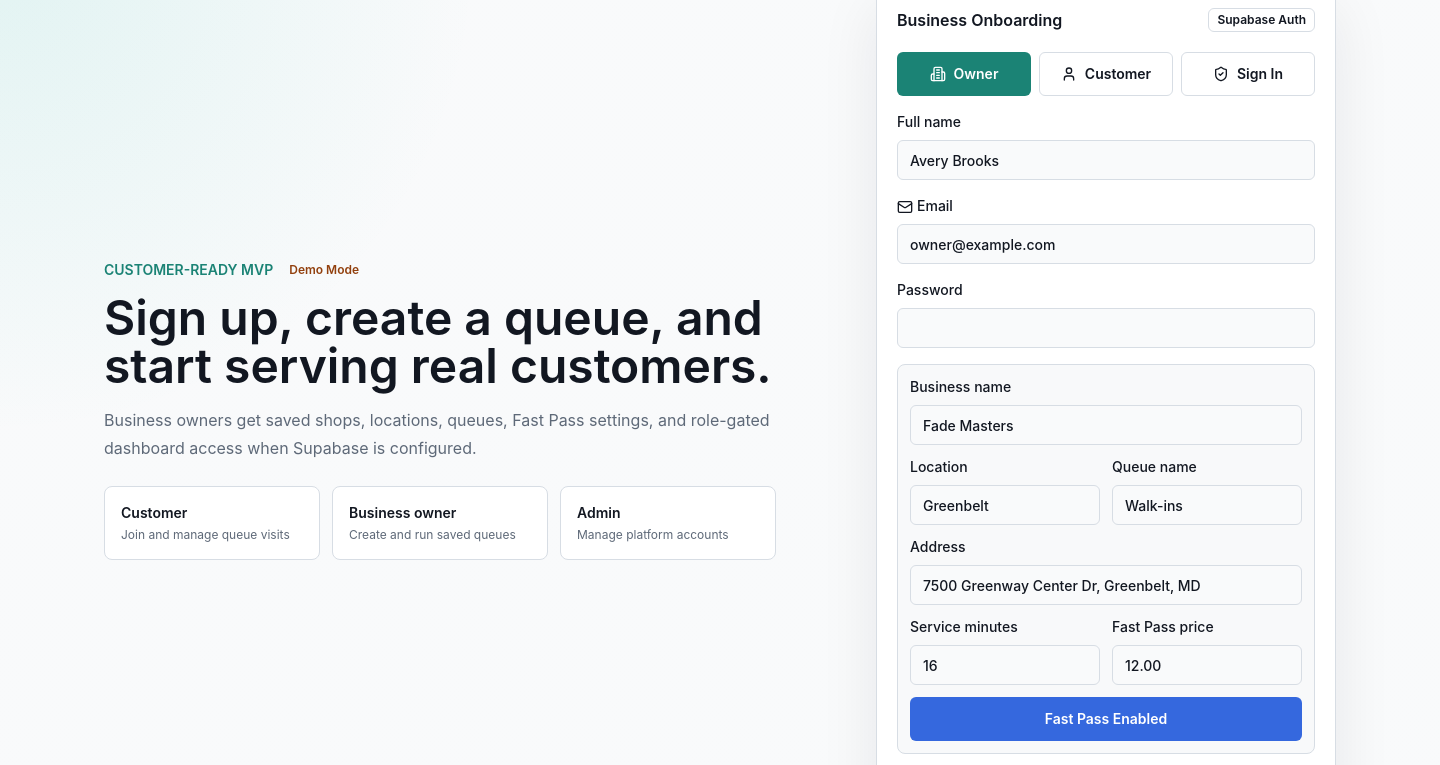
it: AuthOnboarding › submits the auth form and shows the API error message
This screenshot has width=1440, height=765.
Type "password123" into the password field labelled "Password" at {"x": 1106, "y": 328}, box [897,308,1315,348]
(page scrolled)
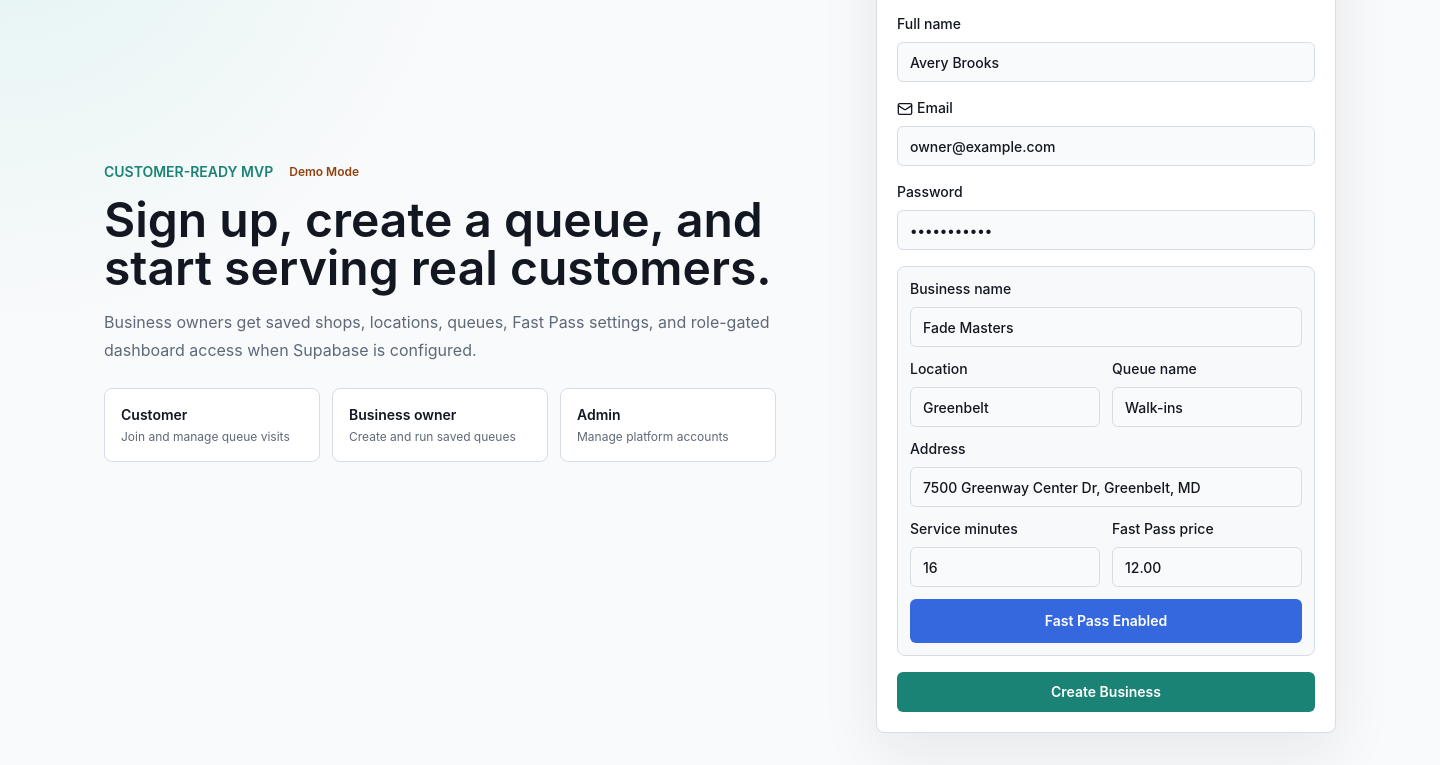
Click the button "Create Business" at {"x": 1106, "y": 692}, box [897,672,1315,712]
(page scrolled)
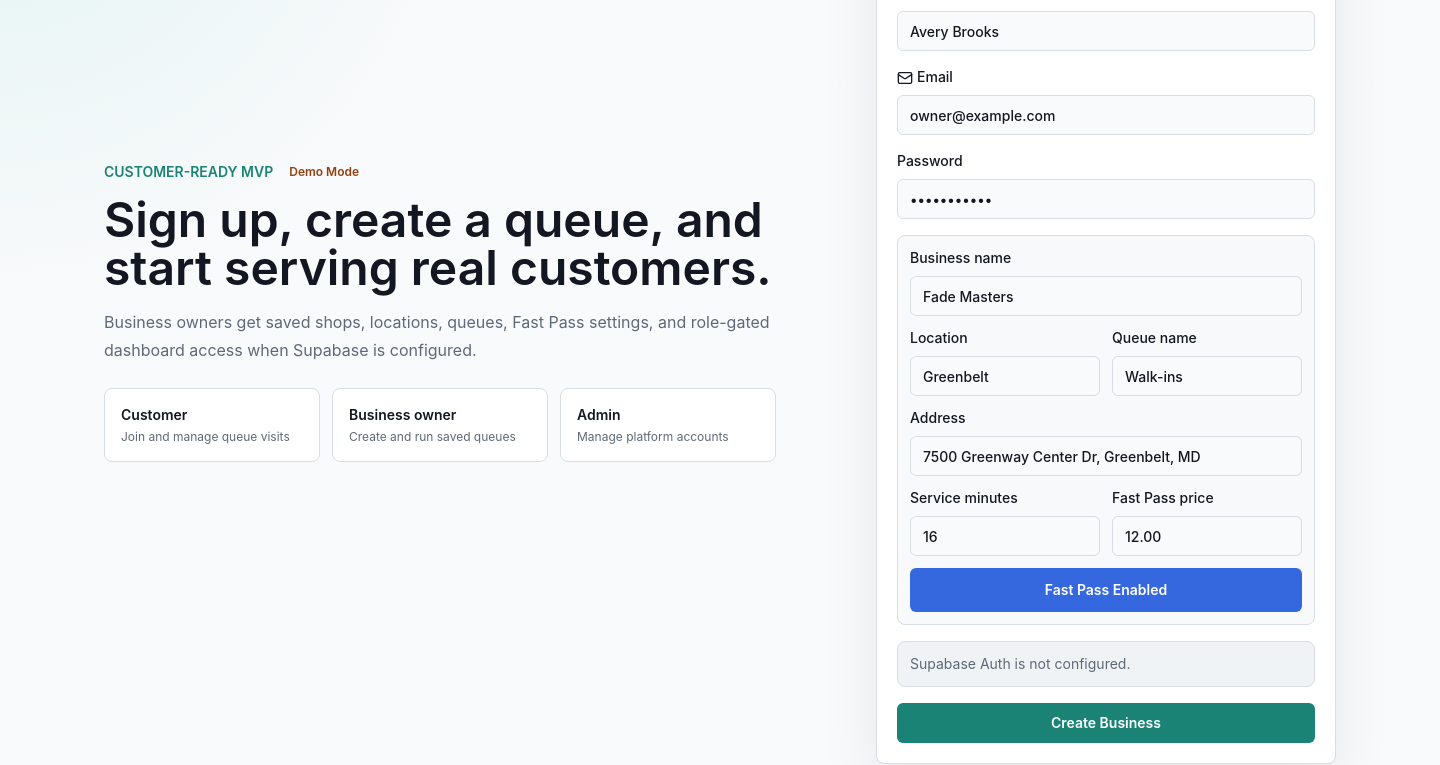
Result: the message reads "Supabase Auth is not configured." at [910,655,1130,672]
